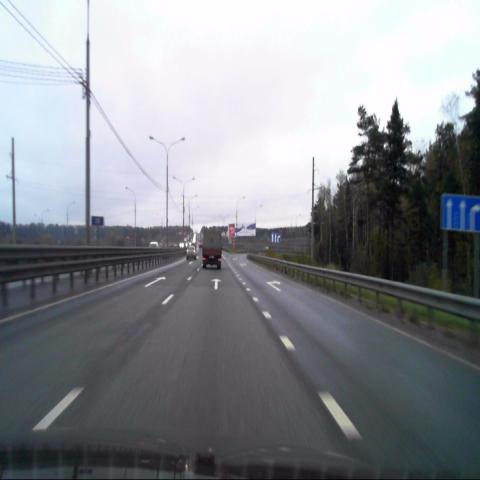5_15_1: (440, 194, 480, 232)
